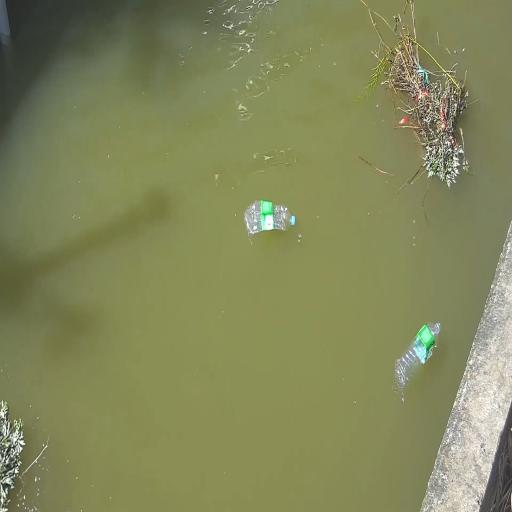plastic: (395, 323, 440, 392), (244, 201, 295, 236)
twig: (361, 0, 472, 188), (0, 401, 25, 512)
